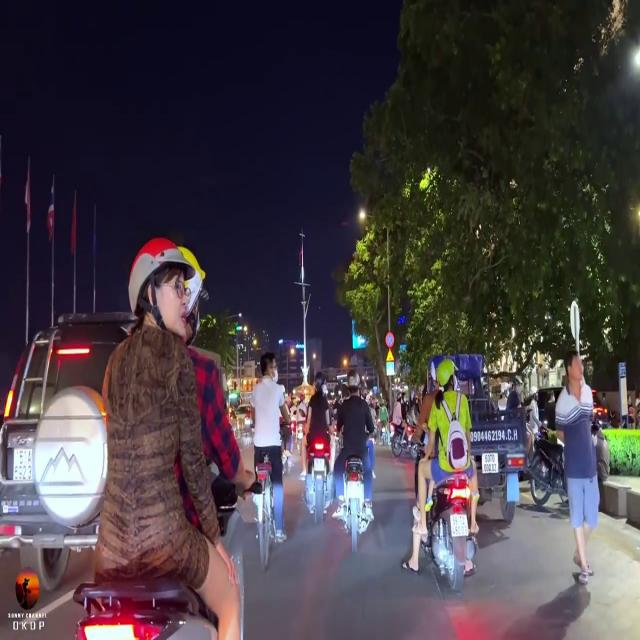bien_trang: (482, 447, 501, 478)
